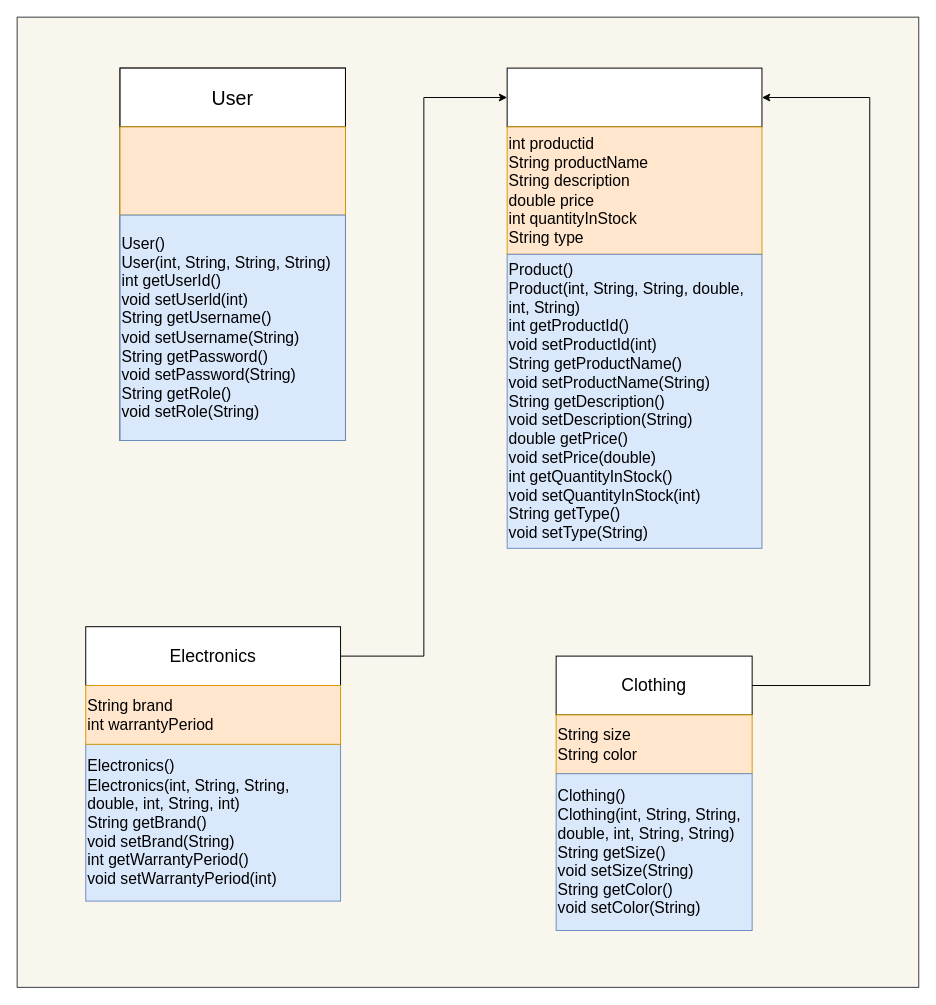
Some shapes in this 936 by 1005 pixel diagram are drawn without their labels. Here are the shapes that lost their labels. From the top down, the centre of each, then its label:
(634,97): Product
(232,170): int userld String username String password String role
